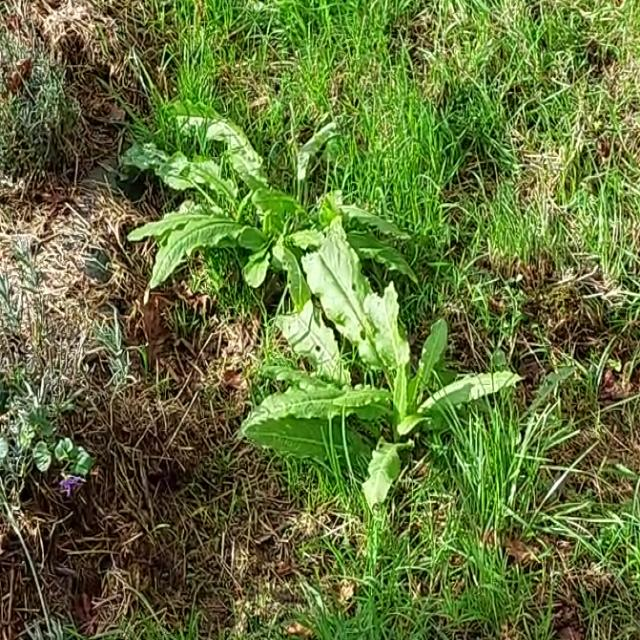organic waste: (241, 235, 502, 475), (94, 73, 422, 248)
